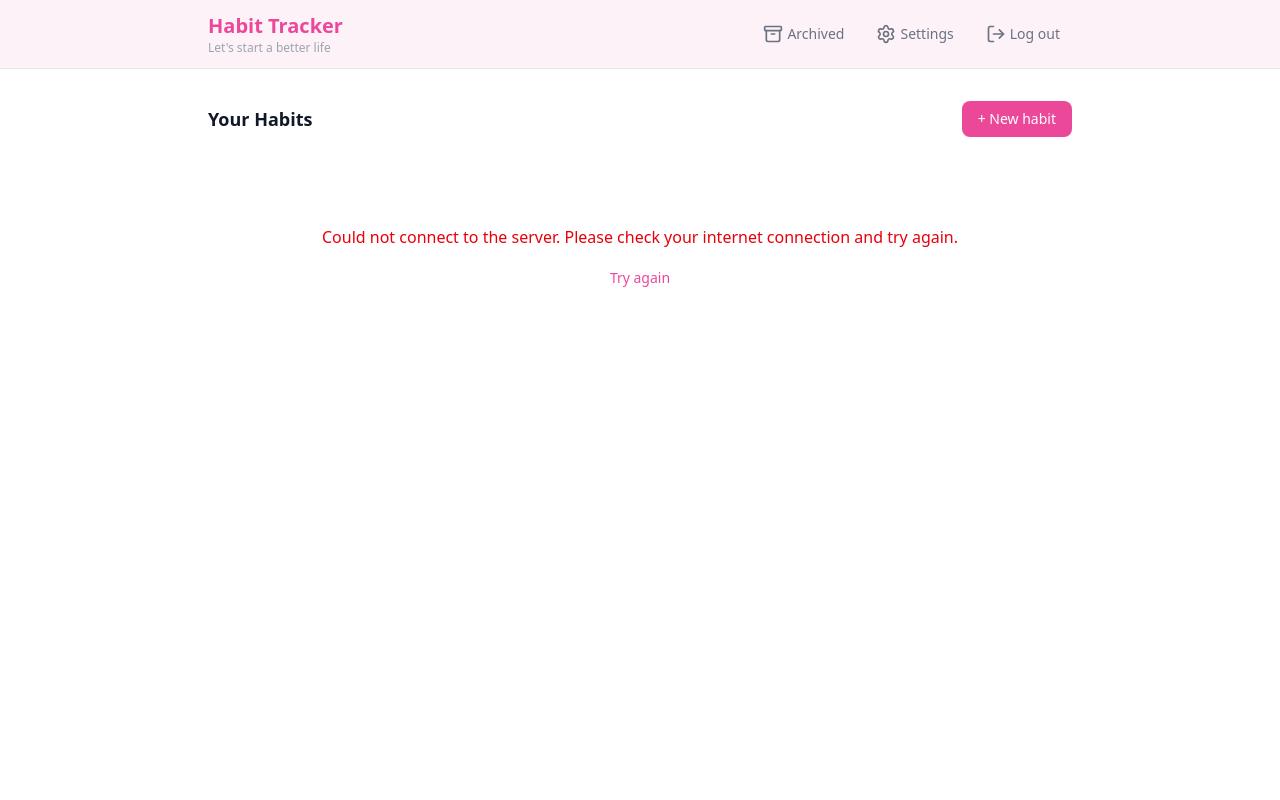
it: Logout › redirects user to /login after logout
Click the button "Log out" at (1023, 34), box [974,18,1072,50]
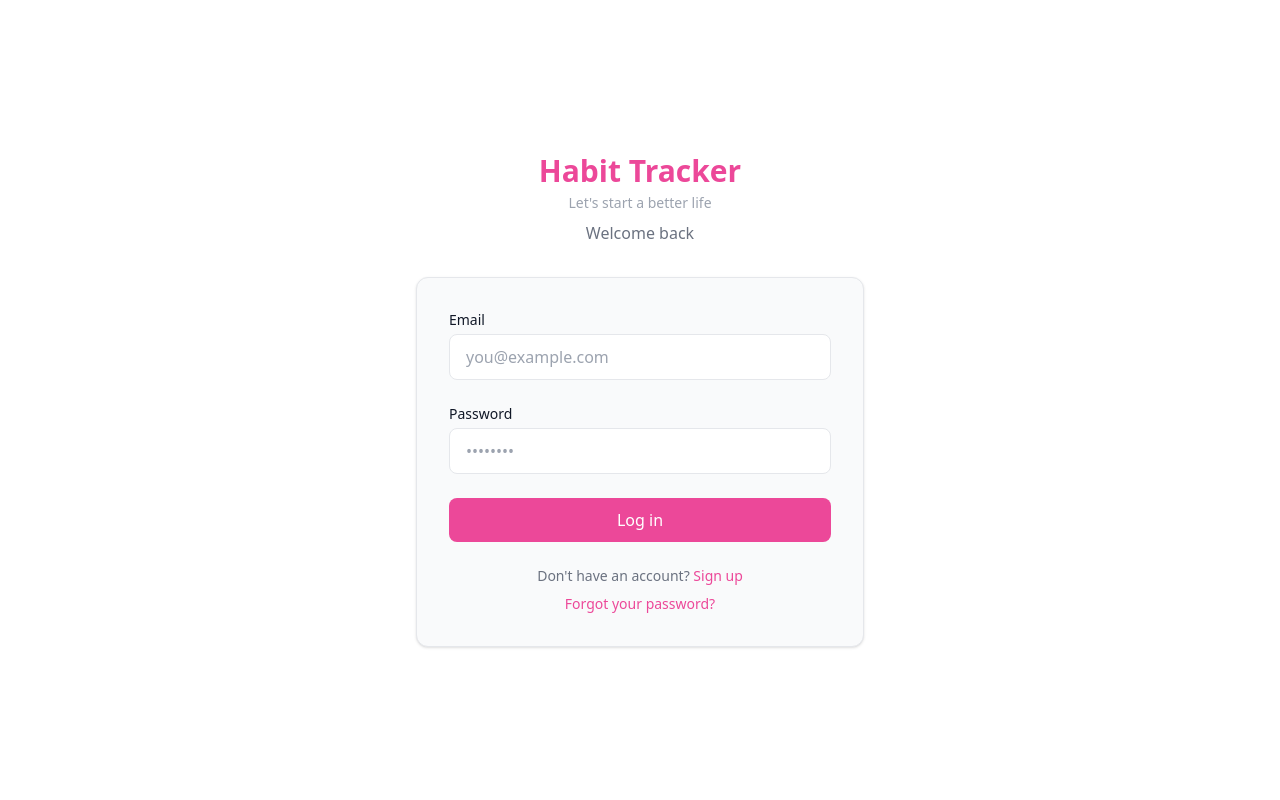
Expected: the field labelled "Email" is shown, [449,334,831,380]
